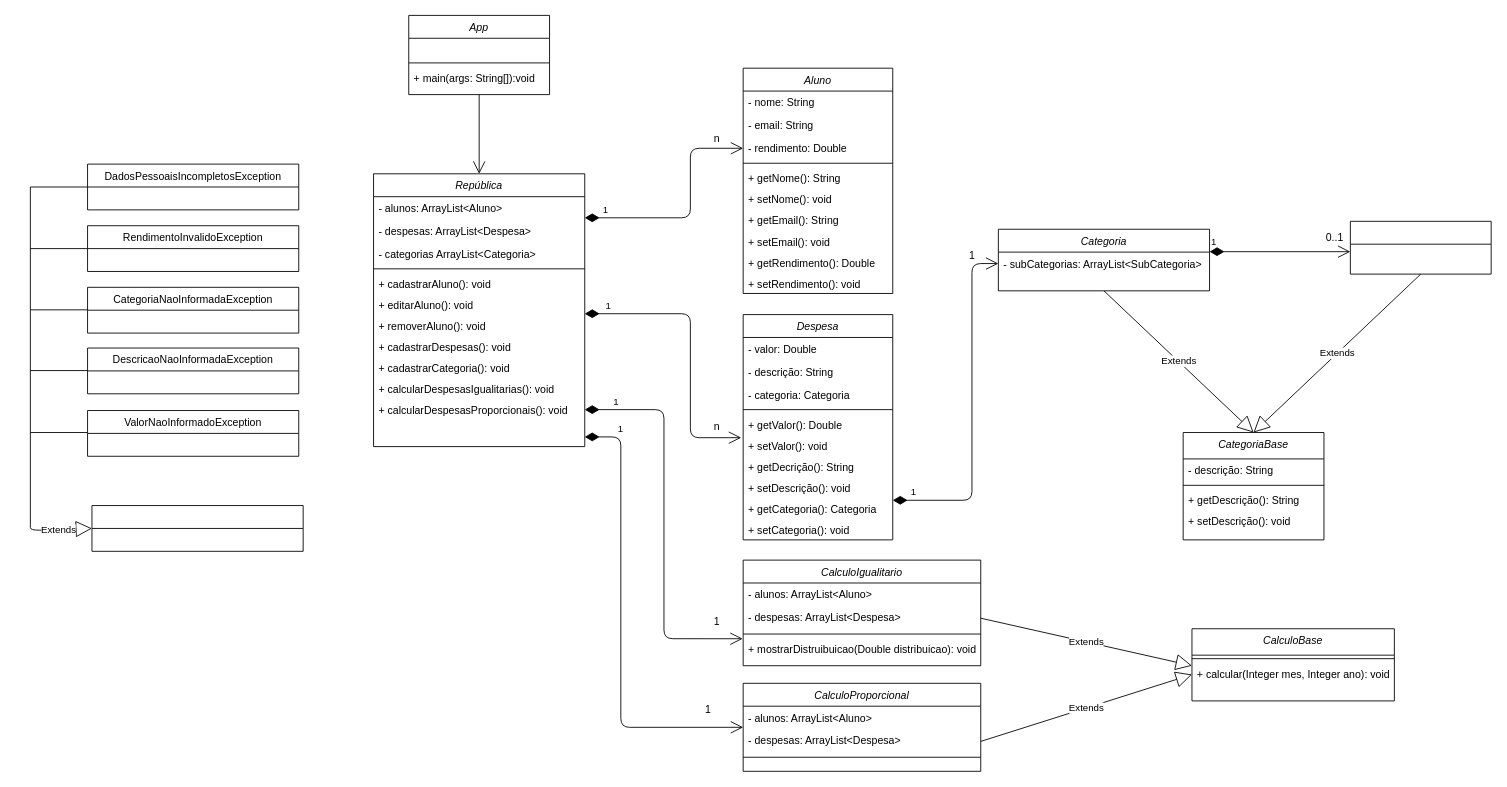
Some shapes in this 1507 by 787 pixel diagram are drawn without their labels. Here are the shapes that lost their labels. From the top down, the centre of each, then its label:
At pixel 1420 247: "SubCategoria".
At pixel 197 528: "Exception".
